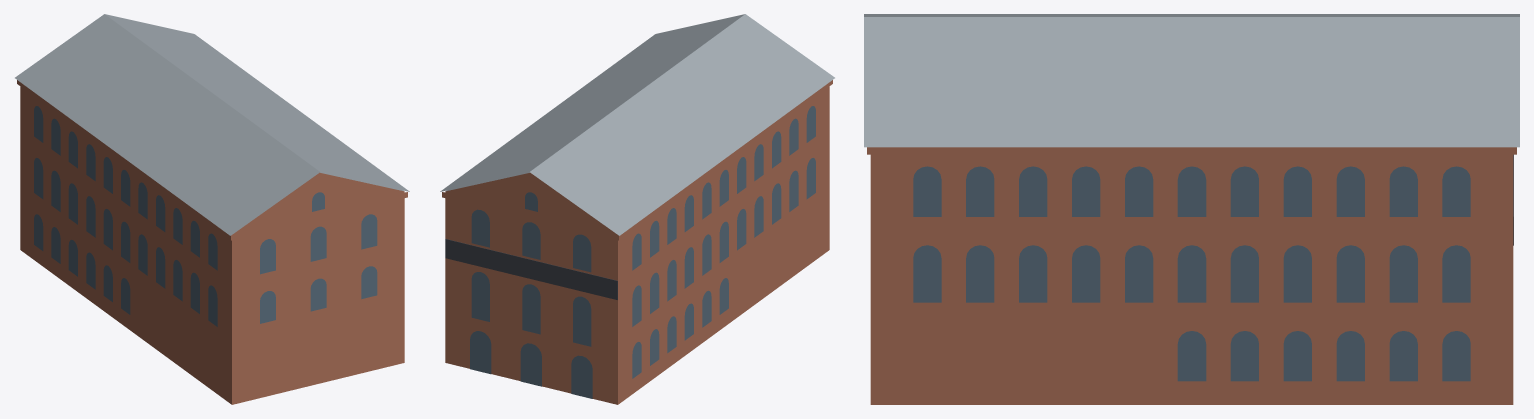
Rendered from ric-tredegar-iron-works.glb.
The picture shows the model from 3 angles, left to right: view 1: azimuth 30°, elevation 25°; view 2: azimuth 150°, elevation 25°; view 3: azimuth 270°, elevation 25°; orthographic projection. The views are drawn at different scales.
Visible parts, largest first — view 1: Tredegar Iron Works; view 2: Tredegar Iron Works; view 3: Tredegar Iron Works.
Boxes of the visible parts, left/top/right/bottom form: Tredegar Iron Works: left=15, top=14, right=409, bottom=404; Tredegar Iron Works: left=440, top=14, right=834, bottom=404; Tredegar Iron Works: left=864, top=14, right=1519, bottom=404.
Size of the model in its own units: 16.7 by 18.92 by 34.7.
